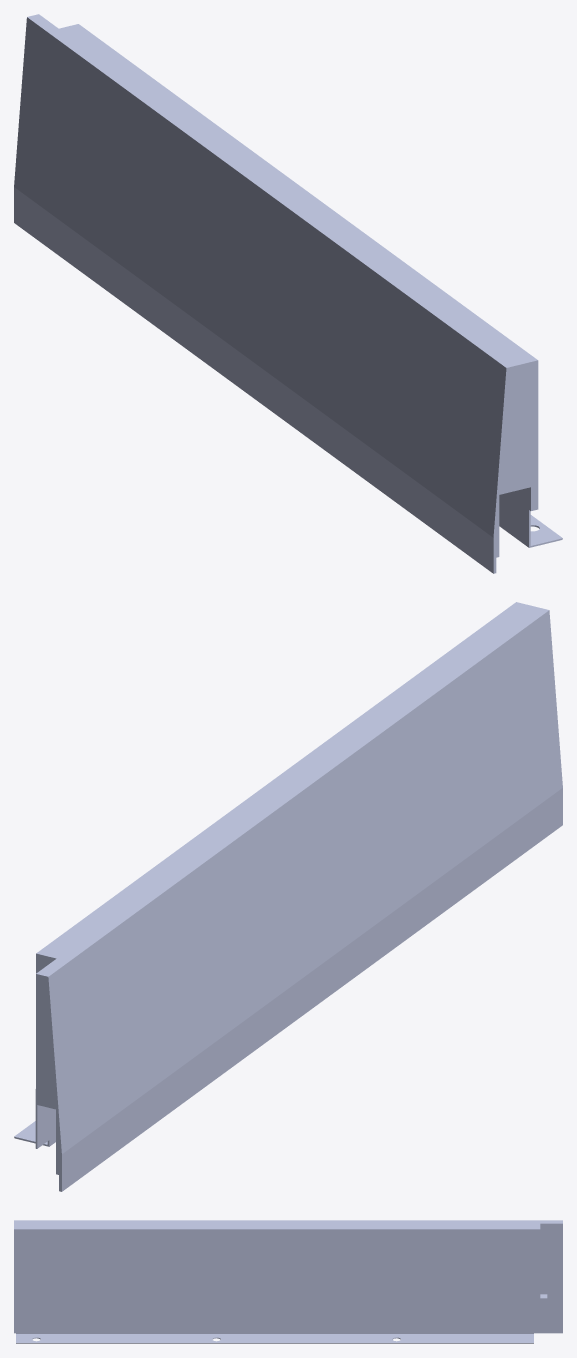
Rendered from mv-kava-M400-p.glb.
3 views of the same model, one above another, from view 1: azimuth 30°, elevation 25°; view 2: azimuth 150°, elevation 25°; view 3: azimuth 270°, elevation 25° (orthographic). The views are drawn at different scales.
Parts seen in each view (by area): view 1: 48341405; view 2: 48341405; view 3: 48341405.
Boxes of the visible parts, box(x1,y1,x2,y2) form: 48341405: box(14, 14, 562, 573); 48341405: box(14, 602, 562, 1191); 48341405: box(14, 1220, 562, 1343).
Size of the model in its own units: 0.0335 by 0.091 by 0.3902.
